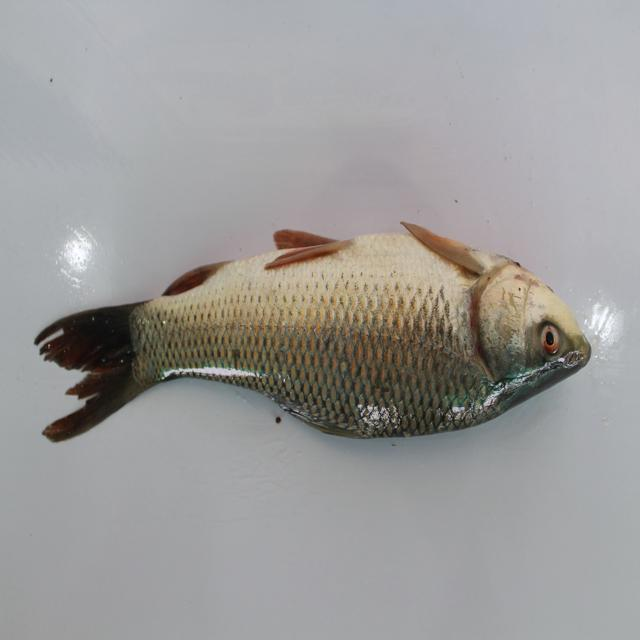Rohu: (35, 209, 606, 460)
